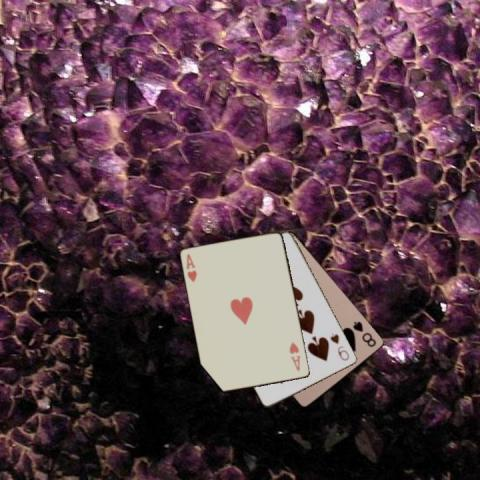8s: (350, 318, 378, 349)
9s: (327, 330, 351, 362)
Ah: (183, 251, 199, 283), (287, 339, 302, 373)
